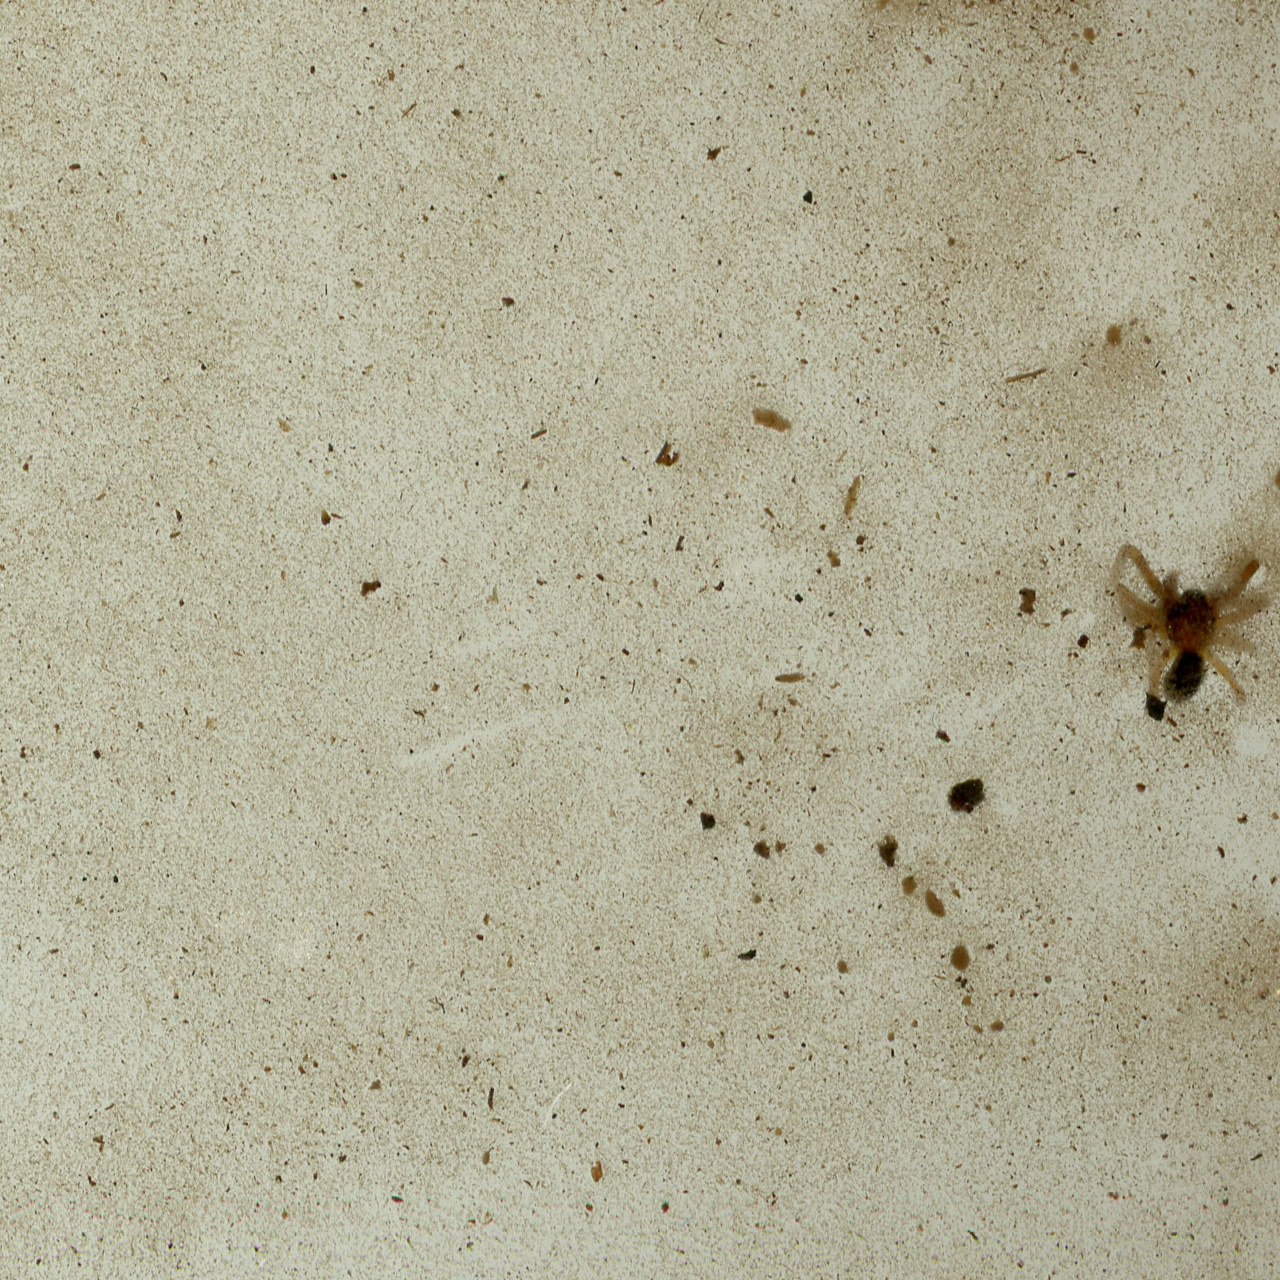arthropod: (1104, 539, 1280, 721)
